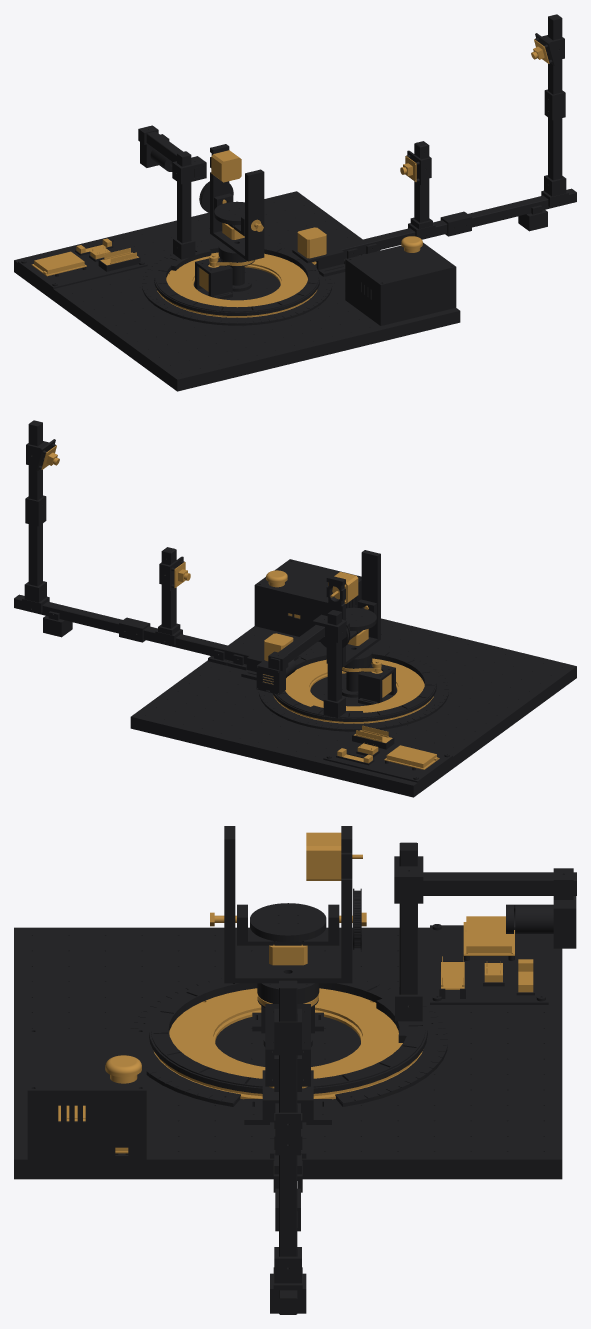
The model's file is opengonio_assembly.glb.
3 views of the same model, one above another, from view 1: azimuth 30°, elevation 25°; view 2: azimuth 150°, elevation 25°; view 3: azimuth 270°, elevation 25° (orthographic). The views are drawn at different scales.
Parts seen in each view (by area): view 1: FRM-01a_deck_SW, FRM-01b_deck_S, PWR-18a_power_box, FRM-01d_deck_W, LAR-01_lazy_susan, FRM-01i_deck_NE, TLT-07a_tilt_yoke, PWR-18b_power_lid, FRM-01c_deck_SE, FRM-01h_deck_N, FRM-01g_deck_NW, CTL-10b_controller_tray (+29 smaller); view 2: FRM-01i_deck_NE, FRM-01a_deck_SW, FRM-01h_deck_N, FRM-01d_deck_W, FRM-01g_deck_NW, LAR-01_lazy_susan, FRM-01b_deck_S, PWR-18a_power_box, TLT-07a_tilt_yoke, CTL-10b_controller_tray, PWR-18b_power_lid, FRM-01f_deck_E (+26 smaller); view 3: FRM-01i_deck_NE, FRM-01a_deck_SW, FRM-01f_deck_E, FRM-01h_deck_N, LAR-01_lazy_susan, FRM-01c_deck_SE, PWR-18a_power_box, PWR-18b_power_lid, CTL-10b_controller_tray, TLT-07a_tilt_yoke, FRM-01d_deck_W, FRM-01b_deck_S (+31 smaller).
Boxes of the visible parts, x1=… form: FRM-01a_deck_SW: x1=123, y1=322, x2=271, y2=391; FRM-01b_deck_S: x1=229, y1=302, x2=365, y2=368; PWR-18a_power_box: x1=345, y1=261, x2=456, y2=325; FRM-01d_deck_W: x1=68, y1=282, x2=196, y2=351; LAR-01_lazy_susan: x1=157, y1=252, x2=316, y2=317; FRM-01i_deck_NE: x1=203, y1=191, x2=350, y2=247; TLT-07a_tilt_yoke: x1=210, y1=144, x2=264, y2=261; PWR-18b_power_lid: x1=345, y1=242, x2=456, y2=286; FRM-01c_deck_SE: x1=323, y1=286, x2=460, y2=345; FRM-01h_deck_N: x1=108, y1=214, x2=220, y2=266; FRM-01g_deck_NW: x1=14, y1=237, x2=149, y2=311; CTL-10b_controller_tray: x1=18, y1=238, x2=147, y2=288; FRM-01i_deck_NE: x1=130, y1=677, x2=267, y2=751; FRM-01a_deck_SW: x1=441, y1=643, x2=576, y2=717; FRM-01h_deck_N: x1=225, y1=708, x2=355, y2=774; FRM-01d_deck_W: x1=394, y1=688, x2=522, y2=757; FRM-01g_deck_NW: x1=319, y1=728, x2=467, y2=797; LAR-01_lazy_susan: x1=274, y1=658, x2=433, y2=723; FRM-01b_deck_S: x1=370, y1=620, x2=482, y2=672; PWR-18a_power_box: x1=254, y1=582, x2=361, y2=641; TLT-07a_tilt_yoke: x1=326, y1=550, x2=380, y2=667; CTL-10b_controller_tray: x1=323, y1=729, x2=452, y2=782; PWR-18b_power_lid: x1=254, y1=559, x2=361, y2=603; FRM-01f_deck_E: x1=185, y1=637, x2=307, y2=694; FRM-01i_deck_NE: x1=379, y1=1082, x2=562, y2=1179; FRM-01a_deck_SW: x1=14, y1=927, x2=196, y2=1004; FRM-01f_deck_E: x1=196, y1=1099, x2=379, y2=1179; FRM-01h_deck_N: x1=419, y1=1005, x2=562, y2=1082; LAR-01_lazy_susan: x1=154, y1=988, x2=422, y2=1099; FRM-01c_deck_SE: x1=14, y1=1082, x2=196, y2=1179; PWR-18a_power_box: x1=27, y1=1093, x2=146, y2=1159; PWR-18b_power_lid: x1=27, y1=1028, x2=146, y2=1093; CTL-10b_controller_tray: x1=430, y1=924, x2=548, y2=1004; TLT-07a_tilt_yoke: x1=224, y1=826, x2=352, y2=983; FRM-01d_deck_W: x1=196, y1=927, x2=379, y2=984; FRM-01b_deck_S: x1=14, y1=1005, x2=156, y2=1082.
Size of the model in its own units: 1.01 by 0.41 by 0.616.
